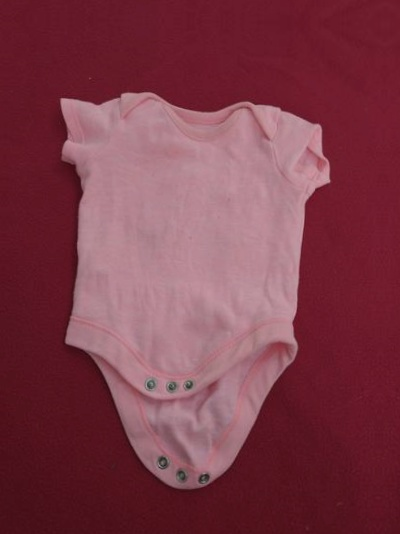Body: (38, 80, 339, 513)
